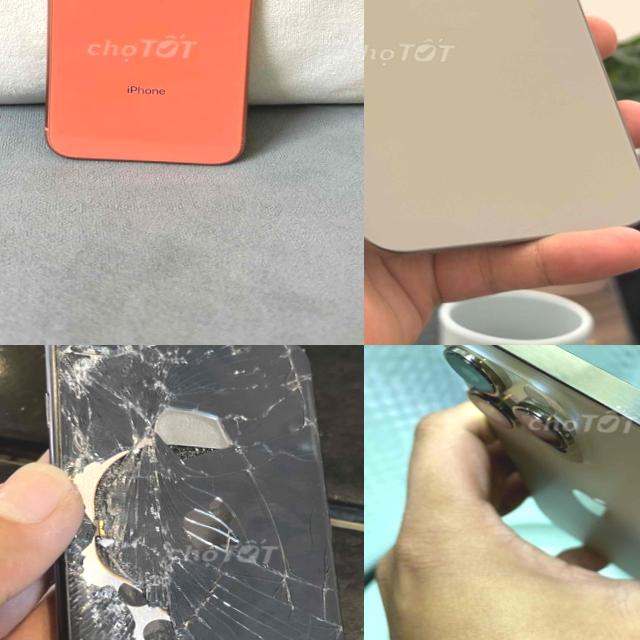gen_14: (410, 345, 640, 595)
gen_15: (364, 0, 640, 267)
gen_7_8: (21, 345, 364, 640)
gen_x_xs: (25, 0, 286, 183)
physical_damage: (170, 432, 346, 494), (18, 428, 170, 490), (220, 364, 352, 434), (49, 538, 200, 598), (38, 593, 227, 640), (57, 484, 205, 543), (36, 362, 180, 418), (214, 484, 346, 543), (232, 589, 357, 640), (200, 543, 298, 597), (289, 548, 364, 615), (35, 403, 184, 434), (176, 360, 228, 420), (52, 345, 166, 369), (242, 345, 333, 367), (169, 345, 239, 364)
scratch: (224, 120, 256, 162)
